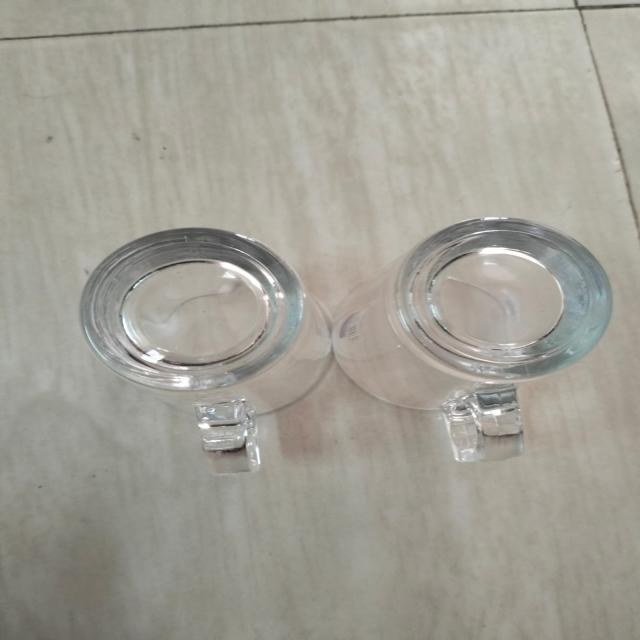glass-VX4N: (356, 219, 622, 471), (76, 225, 339, 472)
